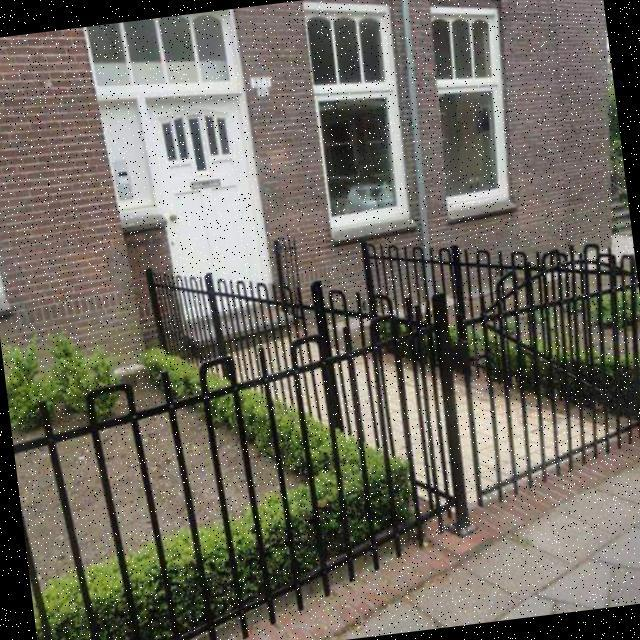fence line: (53, 335, 475, 639), (352, 222, 639, 507), (133, 245, 380, 428)
